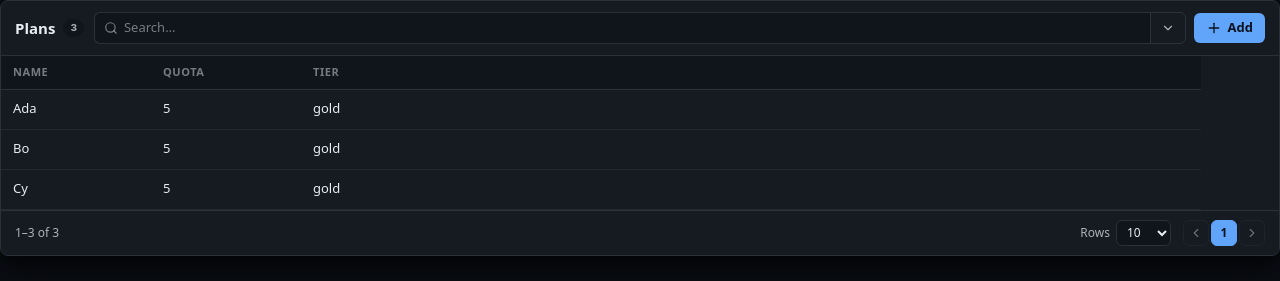
it: the toolbar count › follows the filtered set rather than the whole one
Expected: the text "Ada" is shown, top-left (13, 99), bottom-right (37, 117)
Type "Ada" into the search field at (632, 28), box top-left (124, 16), bottom-right (1141, 40)
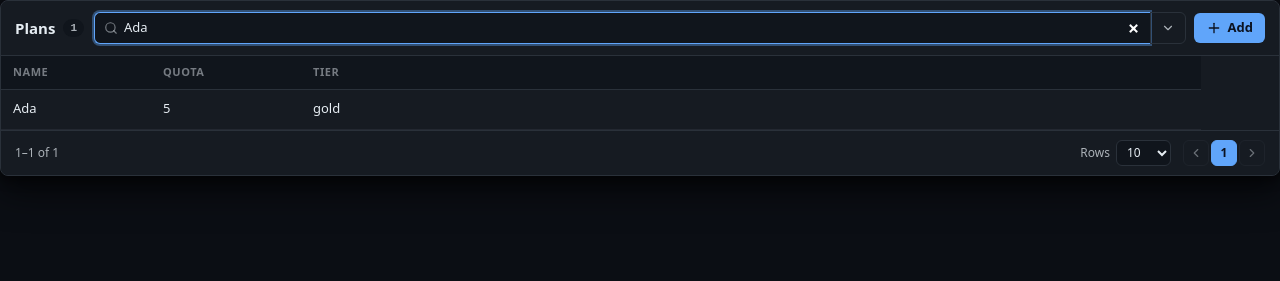
Expected: the text "Bo" is gone
